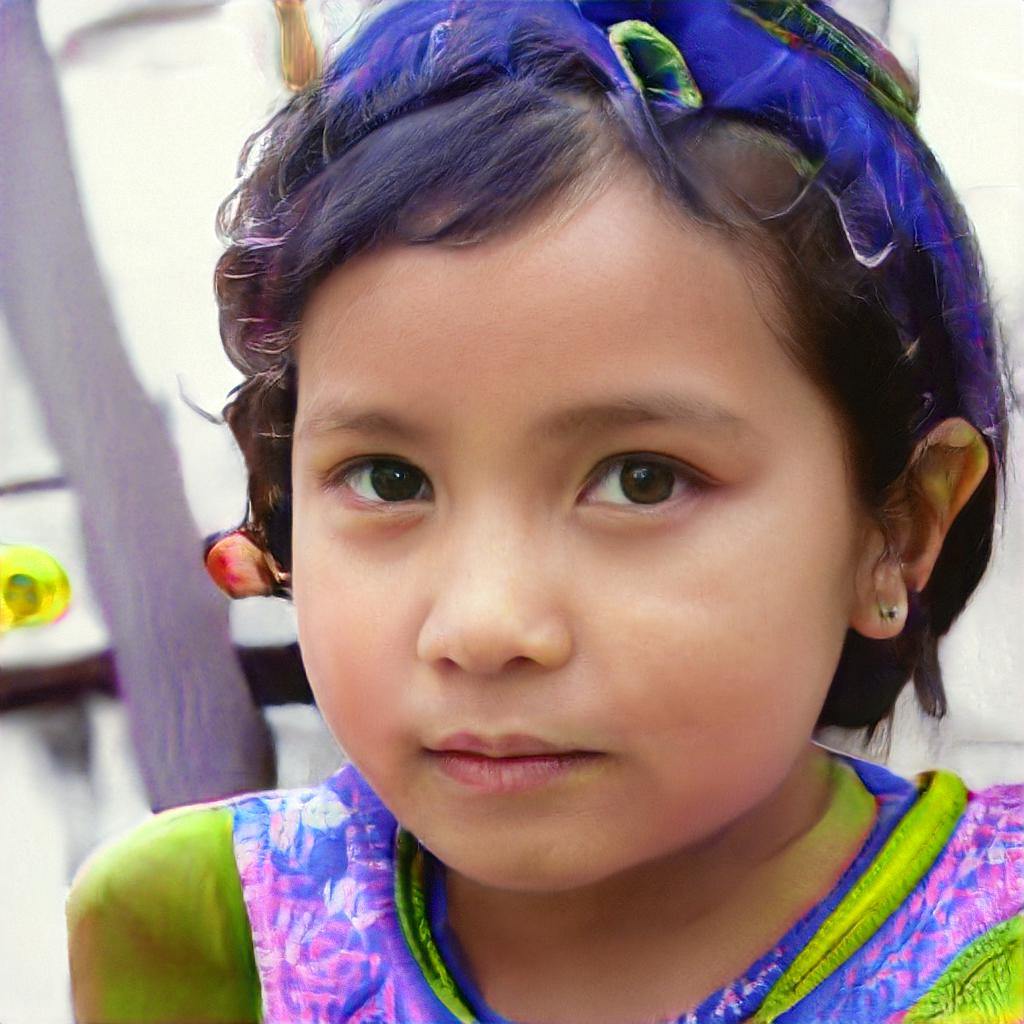face: (290, 165, 853, 892)
